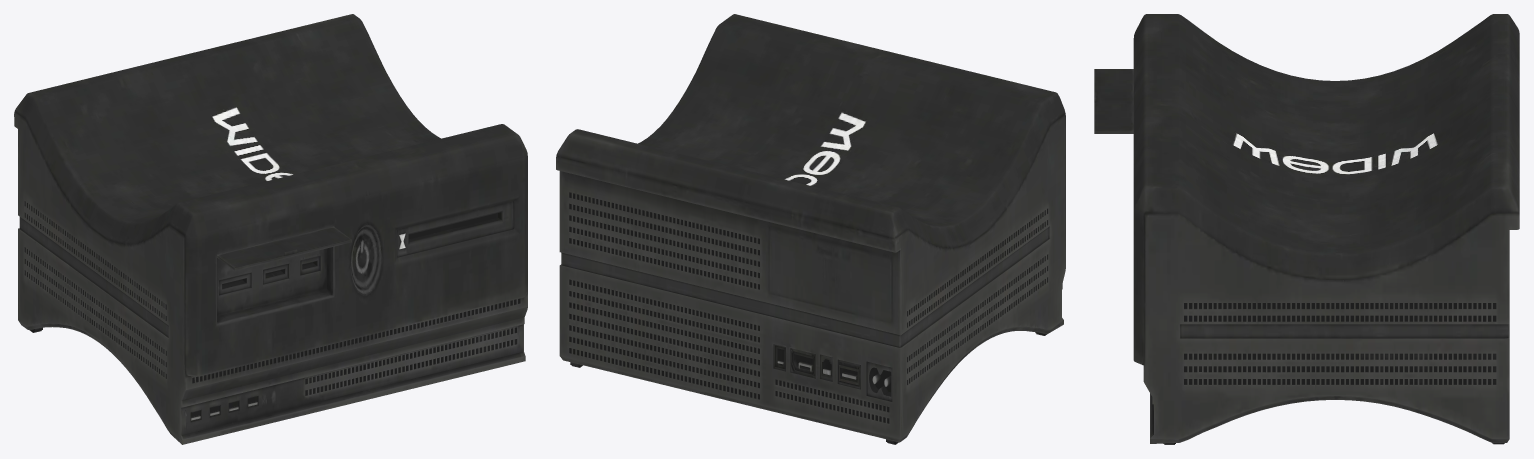
Rendered from console.glb.
3 views of the same model, side by side, from view 1: azimuth 30°, elevation 25°; view 2: azimuth 150°, elevation 25°; view 3: azimuth 270°, elevation 25° (orthographic). The views are drawn at different scales.
Parts seen in each view (by area): view 1: gaming_console.001, gaming_console_lid.001; view 2: gaming_console.001; view 3: gaming_console.001, gaming_console_lid.001.
Part boxes in pixels (left/top/right/bottom): gaming_console.001: left=14, top=14, right=527, bottom=444; gaming_console_lid.001: left=217, top=227, right=351, bottom=270; gaming_console.001: left=556, top=14, right=1065, bottom=444; gaming_console.001: left=1133, top=14, right=1519, bottom=444; gaming_console_lid.001: left=1094, top=69, right=1133, bottom=133.
Bounding box in the file's own units: 7.53 × 4.93 × 7.38.
1 material, 1 textured.
